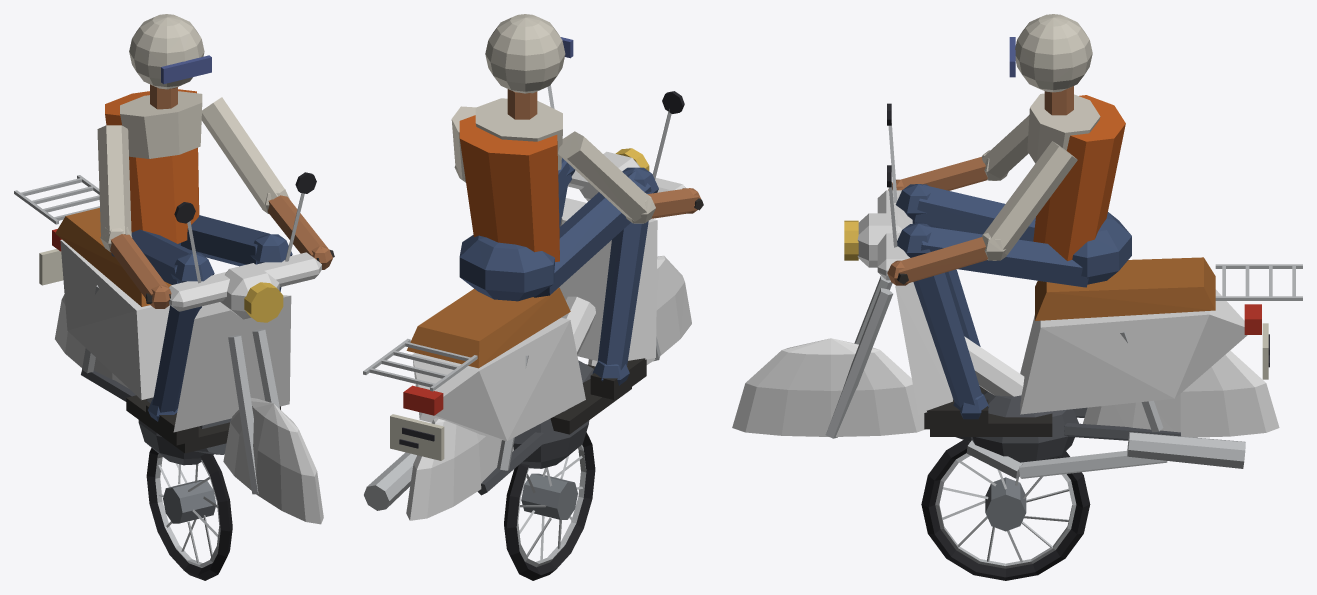
File: motorcycle_taxi.glb
3 views of the same model, side by side, from view 1: azimuth 30°, elevation 25°; view 2: azimuth 150°, elevation 25°; view 3: azimuth 270°, elevation 25° (orthographic). The views are drawn at different scales.
Visible parts, largest first — view 1: body, paint, wheel0, lights; view 2: body, paint, wheel0, lights; view 3: body, paint, wheel0, lights.
Boxes of the visible parts, bbox=[...] form: body: bbox=[14, 14, 334, 494]; paint: bbox=[55, 239, 323, 524]; wheel0: bbox=[146, 448, 232, 580]; lights: bbox=[52, 229, 283, 322]; body: bbox=[363, 14, 703, 510]; paint: bbox=[406, 151, 691, 520]; wheel0: bbox=[504, 432, 595, 580]; lights: bbox=[403, 148, 649, 415]; body: bbox=[825, 14, 1302, 478]; paint: bbox=[732, 190, 1279, 437]; wheel0: bbox=[921, 440, 1090, 580]; lights: bbox=[844, 220, 1261, 334].
Bounding box in the file's own units: 0.7735 × 2.13 × 1.96.
